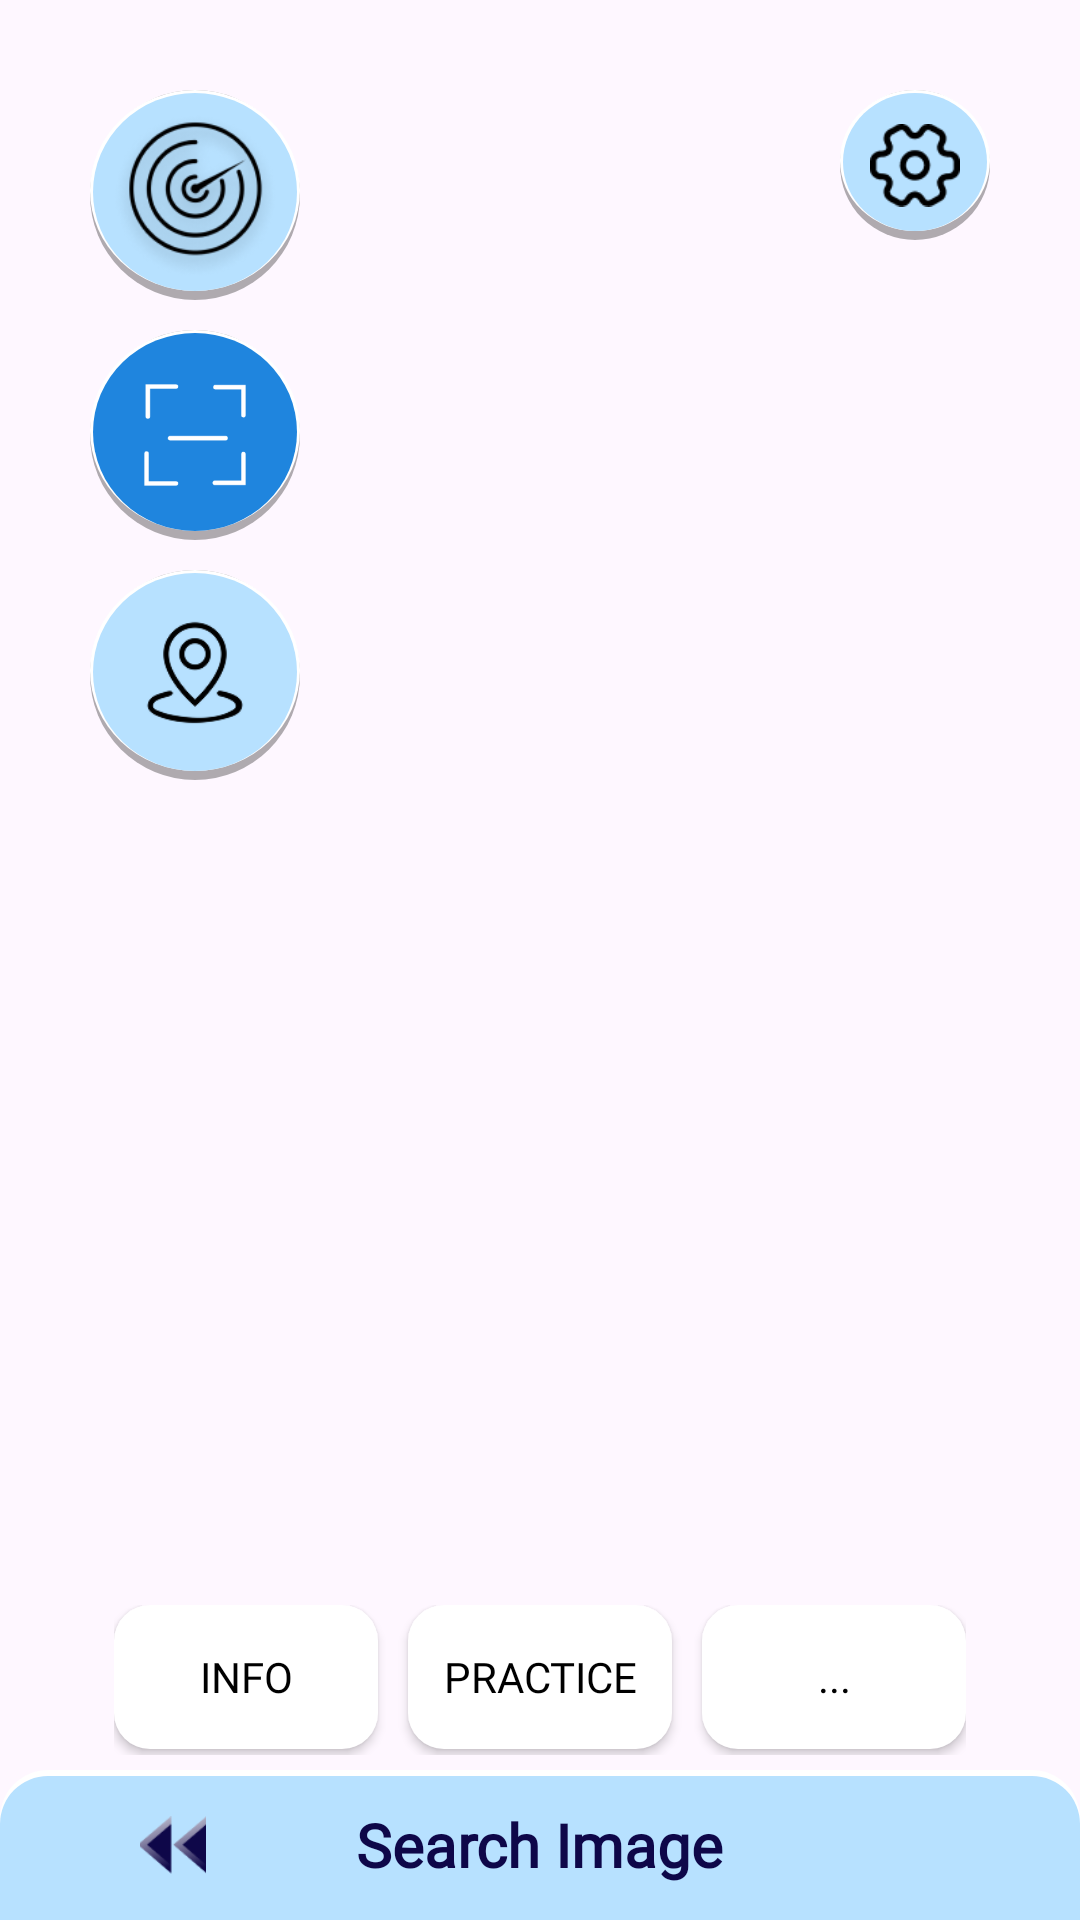

Named icons in this screenshot (1080px×1920px) and their centers, [x,y]:
position: [195,676]
radar: [195,196]
scan: [195,436]
setting: [915,166]
